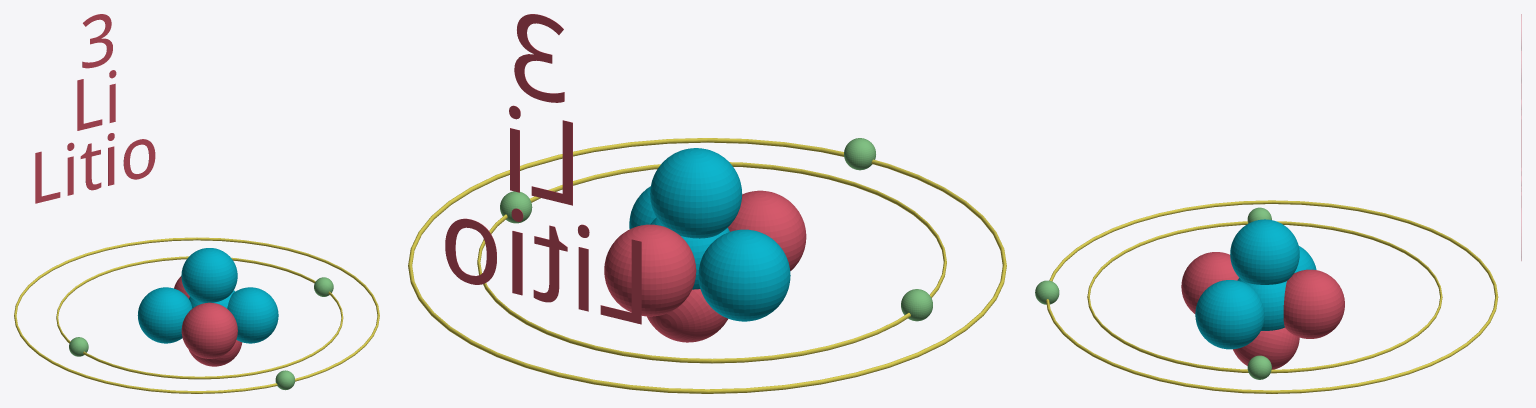
Rendered from 03-LITIO-ANDROID.glb.
The picture shows the model from 3 angles, left to right: view 1: azimuth 30°, elevation 25°; view 2: azimuth 150°, elevation 25°; view 3: azimuth 270°, elevation 25°; orthographic projection. The views are drawn at different scales.
Visible parts, largest first — view 1: Mesh_Mesh_head_geo.001_lambert2SG.001; view 2: Mesh_Mesh_head_geo.001_lambert2SG.001; view 3: Mesh_Mesh_head_geo.001_lambert2SG.001.
Part boxes in pixels (x1,y1,x2,y2): Mesh_Mesh_head_geo.001_lambert2SG.001: [14, 14, 379, 393]; Mesh_Mesh_head_geo.001_lambert2SG.001: [408, 14, 1006, 393]; Mesh_Mesh_head_geo.001_lambert2SG.001: [1035, 14, 1521, 393].
Size of the model in its own units: 130 by 108 by 140.
